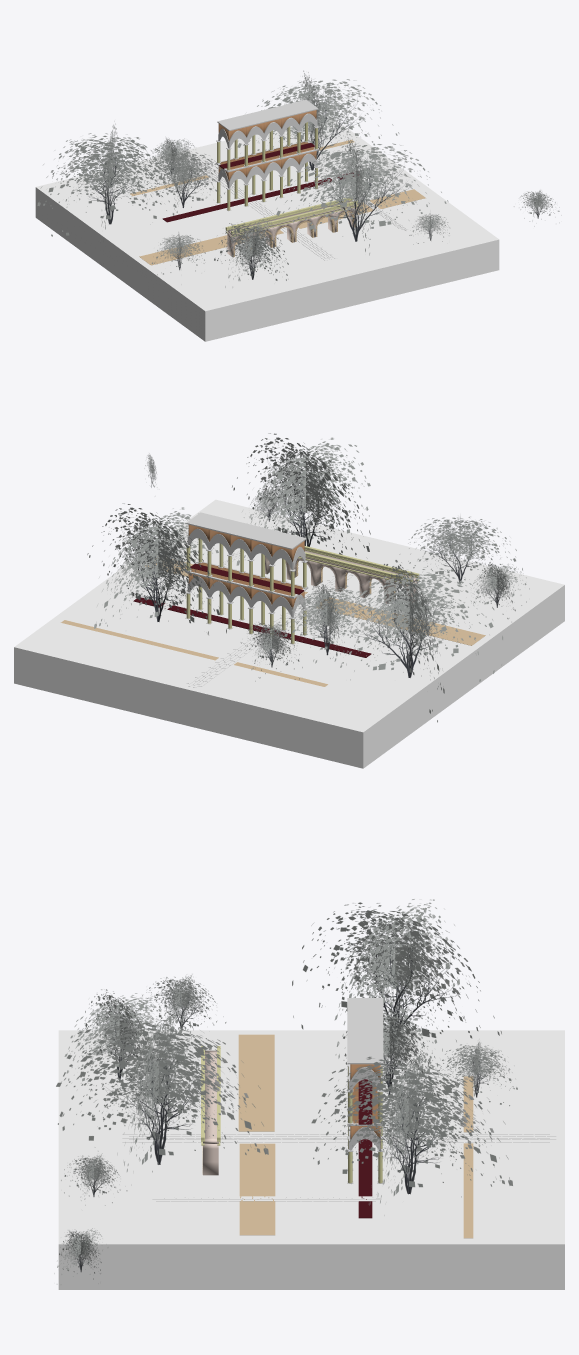
File: 冬水楼閣2.1.glb
3 views of the same model, one above another, from view 1: azimuth 30°, elevation 25°; view 2: azimuth 150°, elevation 25°; view 3: azimuth 270°, elevation 25° (orthographic). The views are drawn at different scales.
Parts seen in each view (by area): view 1: 平面.001; view 2: 平面.001; view 3: 平面.001.
Boxes of the visible parts, x1=… form: 平面.001: x1=35, y1=71, x2=561, y2=341; 平面.001: x1=14, y1=433, x2=564, y2=768; 平面.001: x1=54, y1=899, x2=564, y2=1289.
Size of the model in its own units: 65.43 by 28.53 by 51.37.
Materials: 10 (2 with a texture image).
